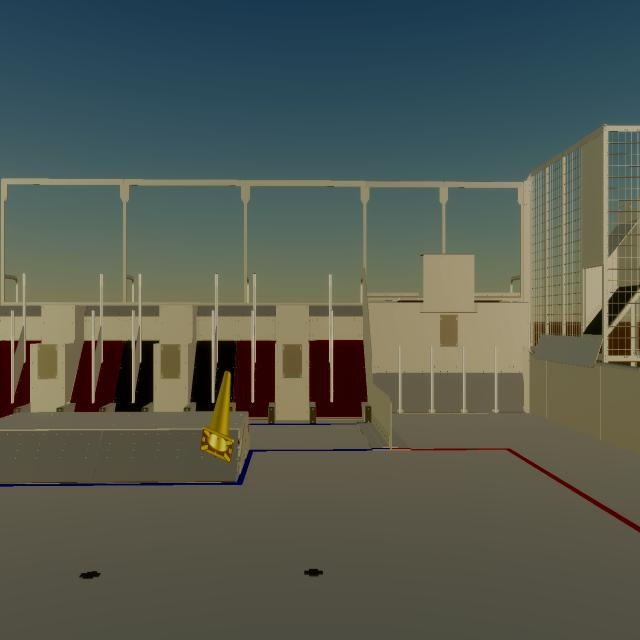frc_cone: (200, 371, 234, 463)
